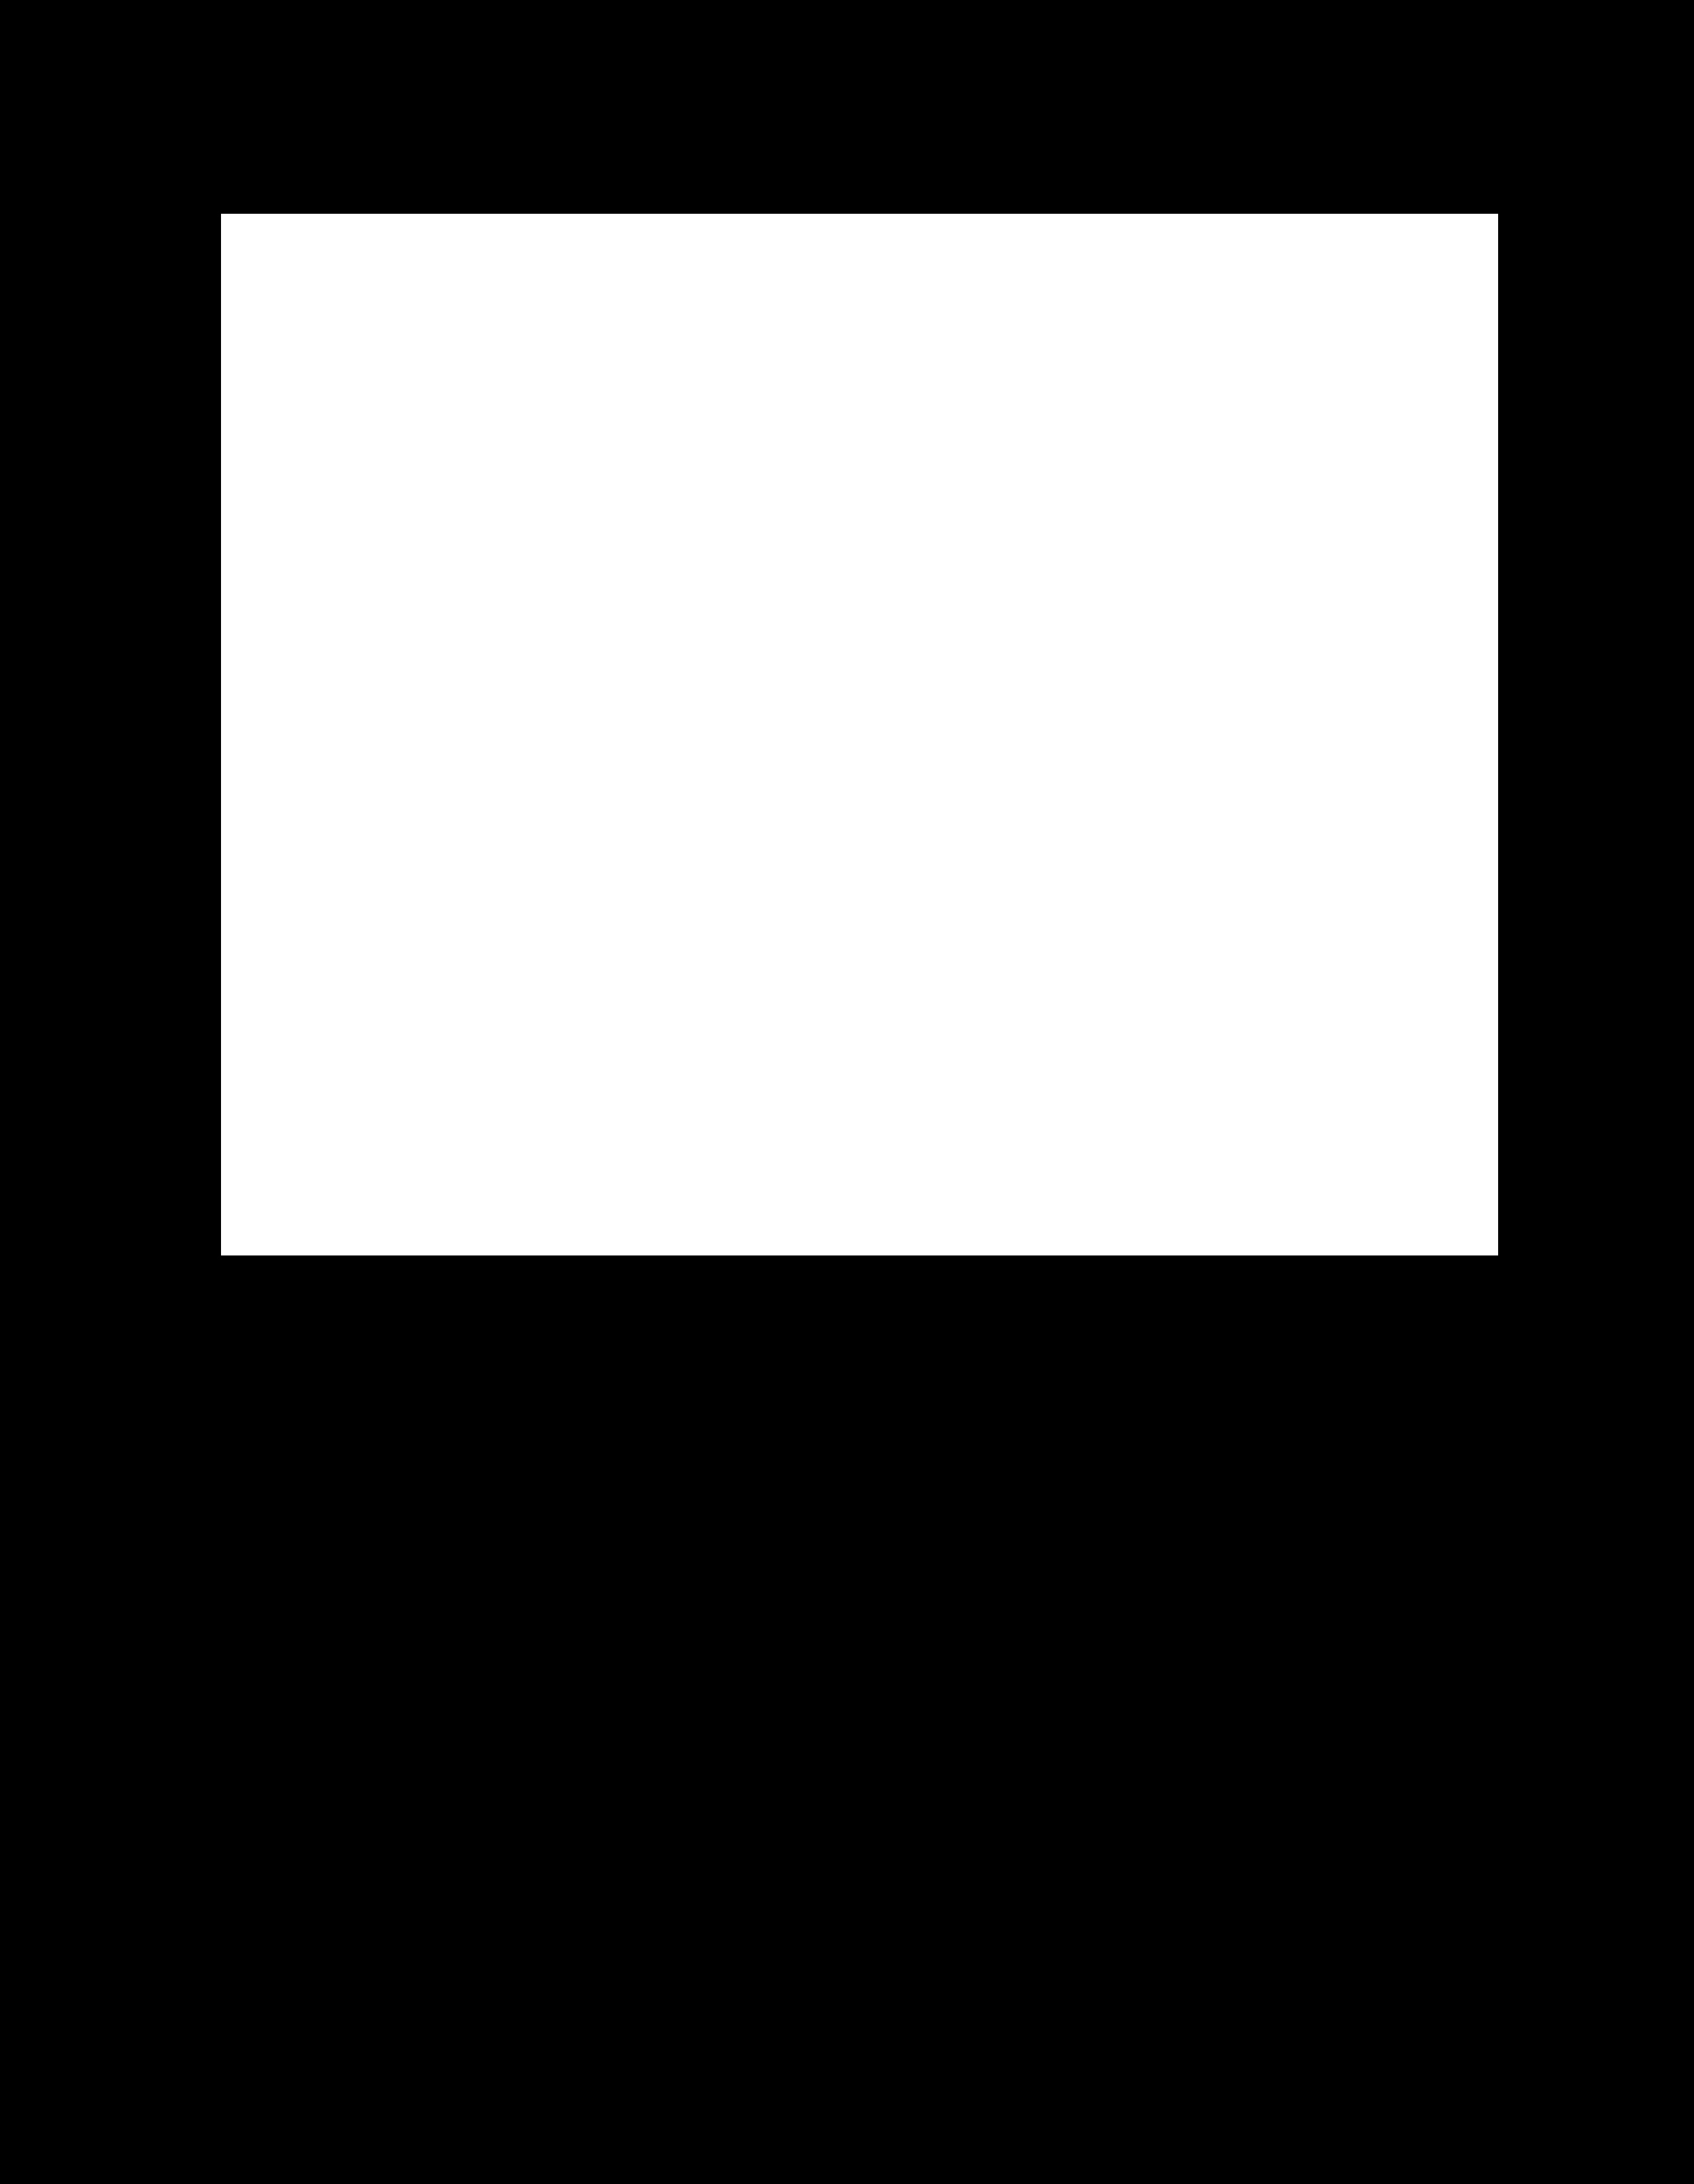table: (221, 214, 1497, 1255)
